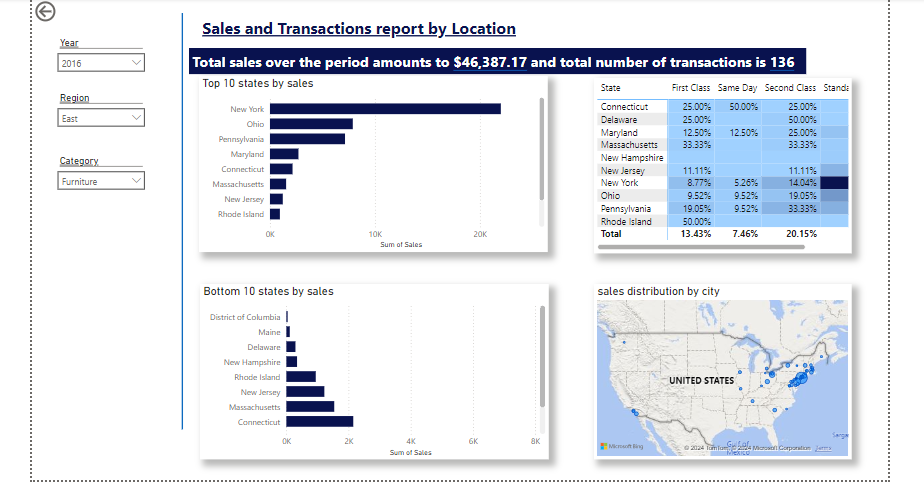

The dashboard page shown, as its layout file describes it:
{"tool":"powerbi","page":{"name":"Locations Report","canvas":[1280,720],"ordinal":1},"visuals":[{"type":"shape","box":[198,22.6,51.8,622.1],"z":0},{"type":"textbox","box":[249.9,22.6,521,61.1],"z":1000},{"type":"textbox","box":[233.9,74.4,922.5,38.5],"z":2000},{"type":"slicer","fields":{"Values":["Orders.Region"]},"box":[27.9,136.9,150.2,105],"z":3000},{"type":"slicer","fields":{"Values":["Orders.Order Date.Variation.Date Hierarchy.Year"]},"box":[27.9,53.2,150.2,59.8],"z":4000},{"type":"slicer","fields":{"Values":["Orders.Region"]},"box":[27.9,136.2,150.2,70.4],"z":5000},{"type":"slicer","fields":{"Values":["Orders.Category"]},"box":[27.9,229.9,150.2,94.4],"z":6000},{"type":"barChart","title":"Top 10 states by sales","fields":{"Category":["Orders.State"],"Y":["Sum(Orders.Sales)"]},"box":[249.9,117,521,263.2],"z":7000},{"type":"barChart","title":"Bottom 10 states by sales","fields":{"Category":["Orders.State"],"Y":["Sum(Orders.Sales)"]},"box":[250.3,426.7,520.7,262],"z":8000},{"type":"pivotTable","fields":{"Rows":["Orders.State"],"Columns":["Orders.Ship Mode"],"Values":["Min(Orders.Order ID)"]},"box":[839.9,119.3,384.7,262],"z":9000},{"type":"actionButton","box":[0,0,100,40],"z":10000},{"type":"map","title":"sales distribution by city","fields":{"Category":["Orders.city.country"],"Size":["Sum(Orders.Sales)"]},"box":[840,427,385,262],"z":11000}]}

Visuals, with their boxes on the page's 1280x720 design canvas (x1, y1, x2, y2). These are canvas units, not pixel positions in the 924x485 screenshot, which may show the page scaled, cropped or inside an application window:
shape: bbox=[198, 23, 250, 645]
textbox: bbox=[250, 23, 771, 84]
textbox: bbox=[234, 74, 1156, 113]
slicer - Orders.Region: bbox=[28, 137, 178, 242]
slicer - Orders.Order Date.Variation.Date Hierarchy.Year: bbox=[28, 53, 178, 113]
slicer - Orders.Region: bbox=[28, 136, 178, 207]
slicer - Orders.Category: bbox=[28, 230, 178, 324]
"Top 10 states by sales" barChart: bbox=[250, 117, 771, 380]
"Bottom 10 states by sales" barChart: bbox=[250, 427, 771, 689]
pivotTable - Orders.State x Orders.Ship Mode: bbox=[840, 119, 1225, 381]
actionButton: bbox=[0, 0, 100, 40]
"sales distribution by city" map: bbox=[840, 427, 1225, 689]
